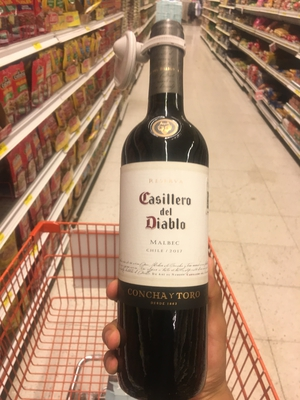casillero del diablo malbec: (114, 18, 228, 397)
